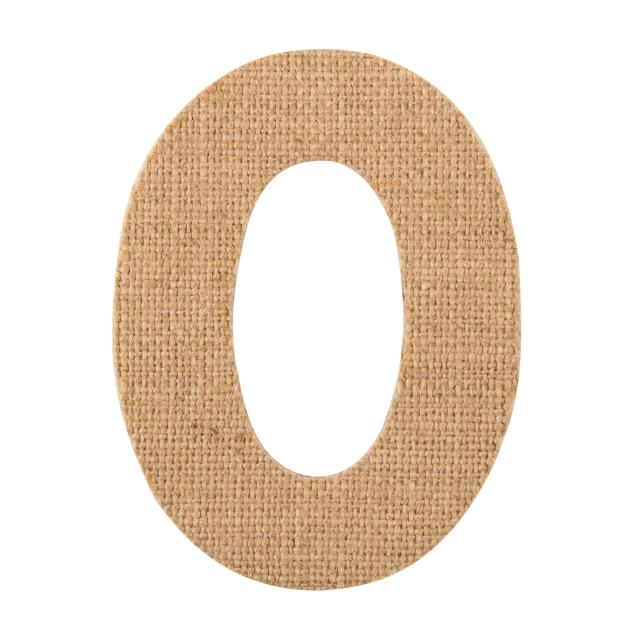O: (84, 27, 534, 600)
